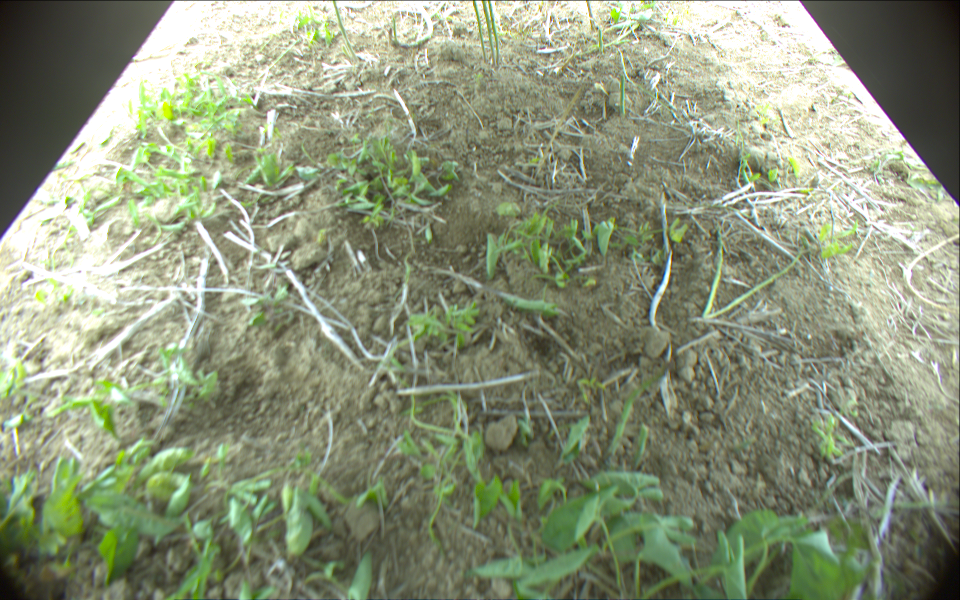aspa: (702, 248, 804, 320), (704, 219, 723, 315), (332, 1, 357, 58), (479, 1, 496, 63), (471, 1, 488, 60), (489, 1, 502, 69), (620, 72, 629, 116), (585, 1, 596, 30), (599, 28, 604, 51)
